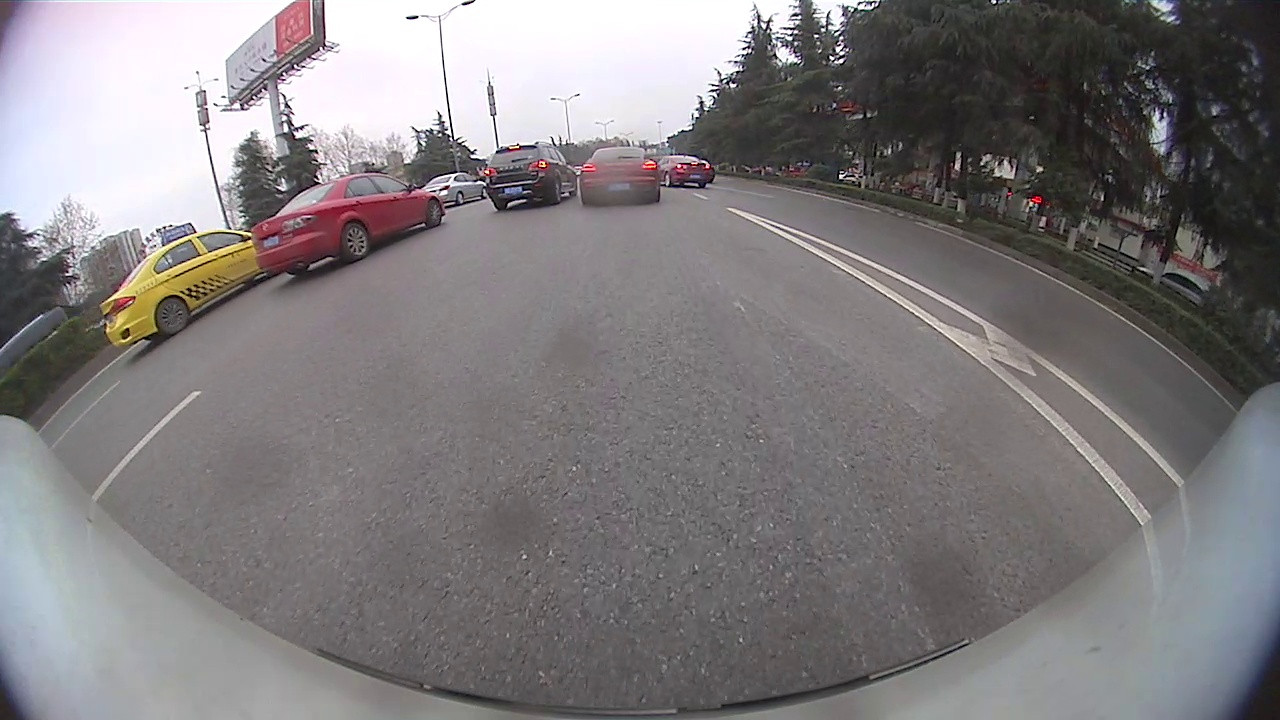car: (254, 171, 448, 282), (93, 230, 271, 348), (488, 143, 578, 206), (578, 145, 664, 205), (665, 156, 714, 192)
front: (424, 198, 443, 230), (480, 186, 489, 200)
rear: (153, 295, 191, 336), (338, 222, 373, 263), (551, 176, 563, 205), (454, 191, 465, 206)
